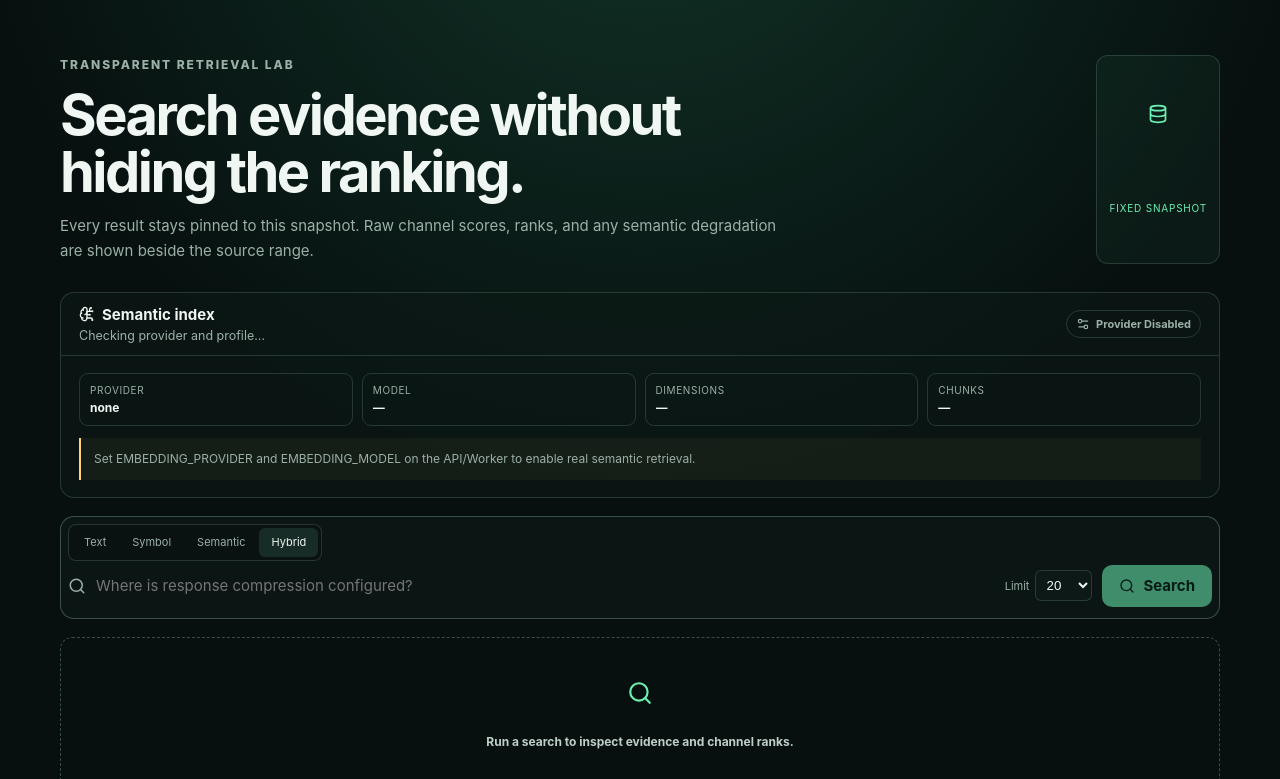
Scenario: RetrievalLab › surfaces semantic-only unavailability as an explicit API error
Expected: the text "provider disabled" is shown, [1066,310,1201,338]
Click the tab "Semantic": [221, 542] box [185,528,257,557]
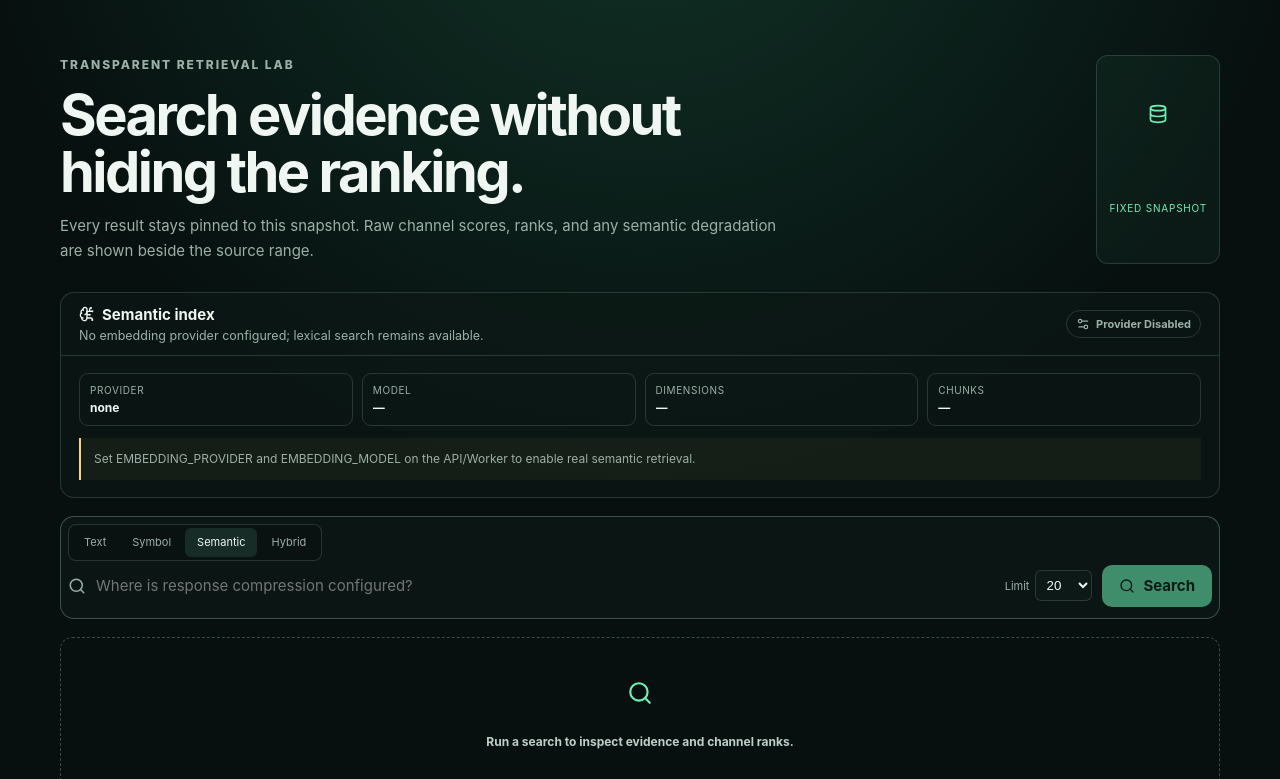
In the field named "Search query": [545, 586] box [96,566,995,605], type "meaningful handler"
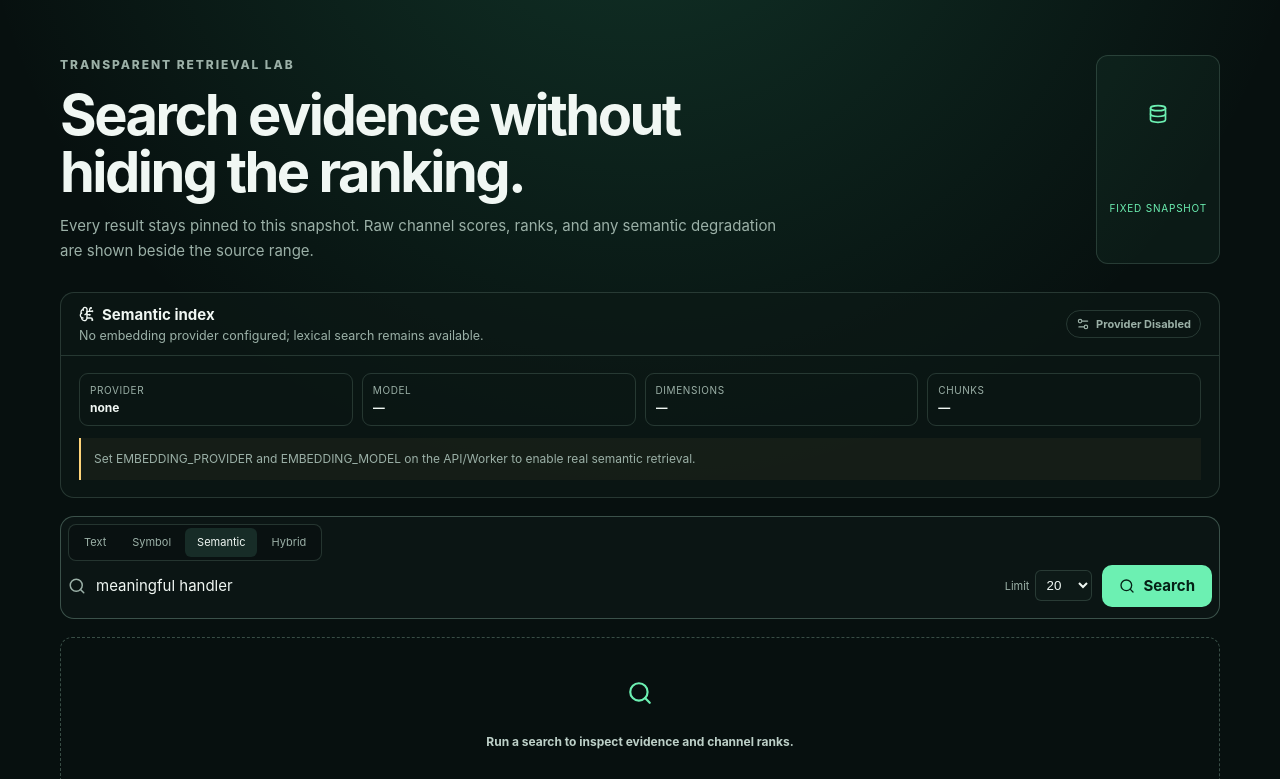
Submit the form named "Search query", box [60,516,1220,619]
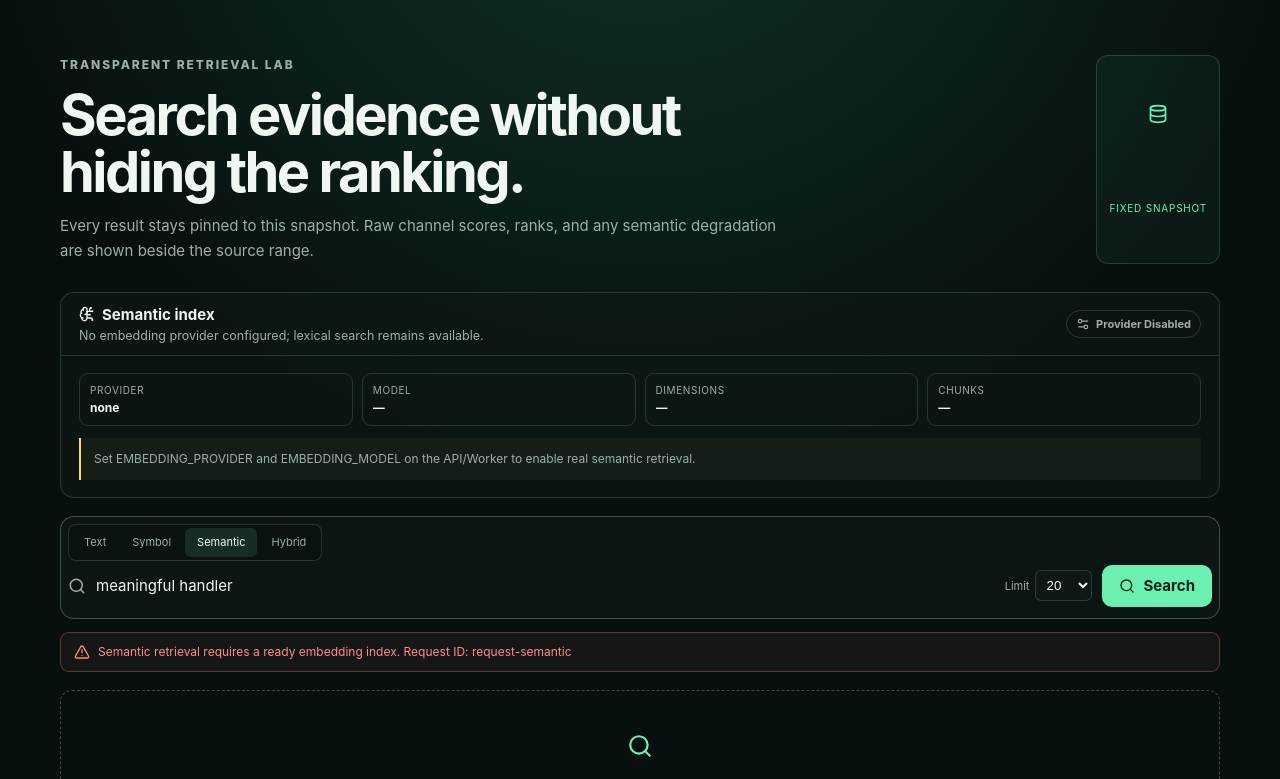
Now the text "Semantic retrieval requires a ready embedding index" shows "Request ID: request-semantic", box [98,644,572,659]
